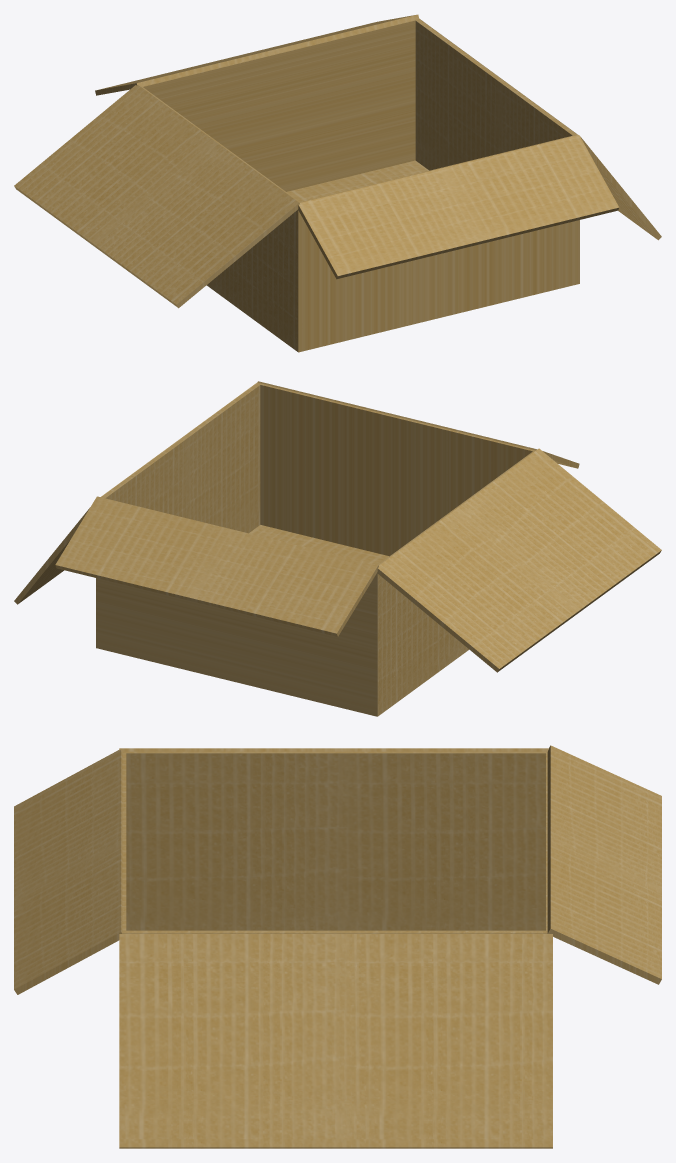
Rendered from Cardboard_Bver1_1.fbx.
The picture shows the model from 3 angles, top to bottom: view 1: azimuth 30°, elevation 25°; view 2: azimuth 150°, elevation 25°; view 3: azimuth 270°, elevation 25°; orthographic projection. The views are drawn at different scales.
Visible parts, largest first — view 1: Cardboard_Btype; view 2: Cardboard_Btype; view 3: Cardboard_Btype.
Boxes of the visible parts, x1,y1,x2,y2 form: Cardboard_Btype: (14,14,661,352); Cardboard_Btype: (14,381,661,716); Cardboard_Btype: (14,745,661,1148).
Size of the model in its own units: 345 by 103 by 299.
